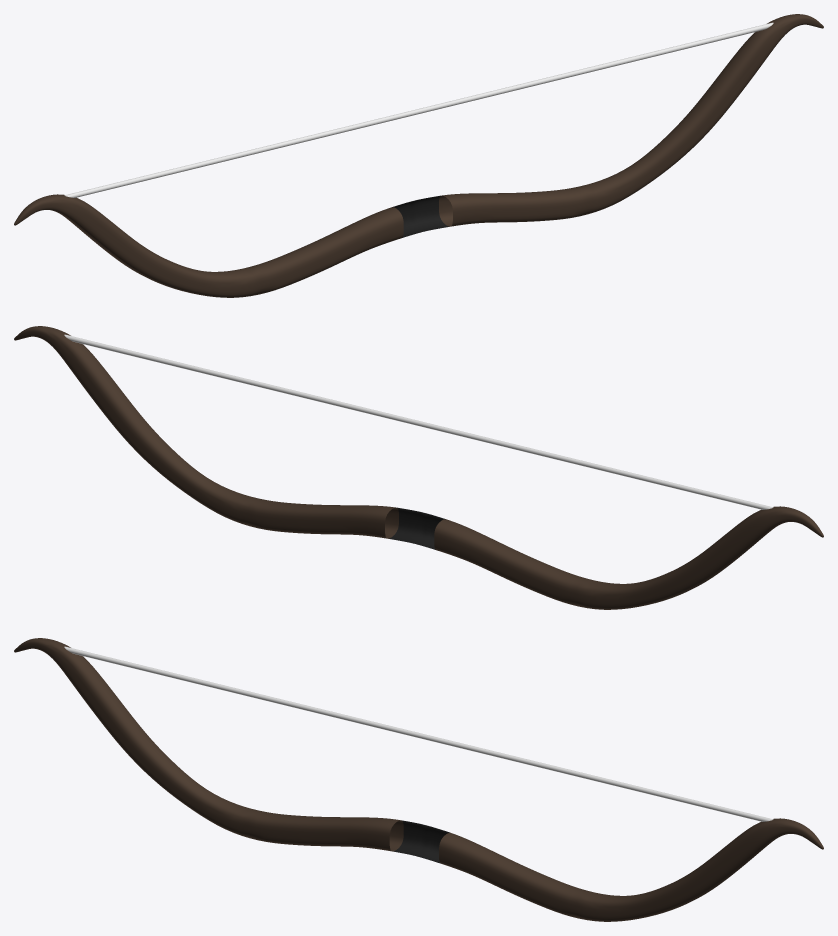
The model's file is bow.fbx.
3 views of the same model, one above another, from view 1: azimuth 30°, elevation 25°; view 2: azimuth 150°, elevation 25°; view 3: azimuth 330°, elevation 25° (orthographic).
Parts seen in each view (by area): view 1: Bow; view 2: Bow; view 3: Bow.
Boxes of the visible parts, <box> form: Bow: <box>14,14,823,297</box>; Bow: <box>14,326,823,609</box>; Bow: <box>14,638,823,921</box>.
Bounding box in the file's own units: 86.69 × 14.99 × 2.62.
